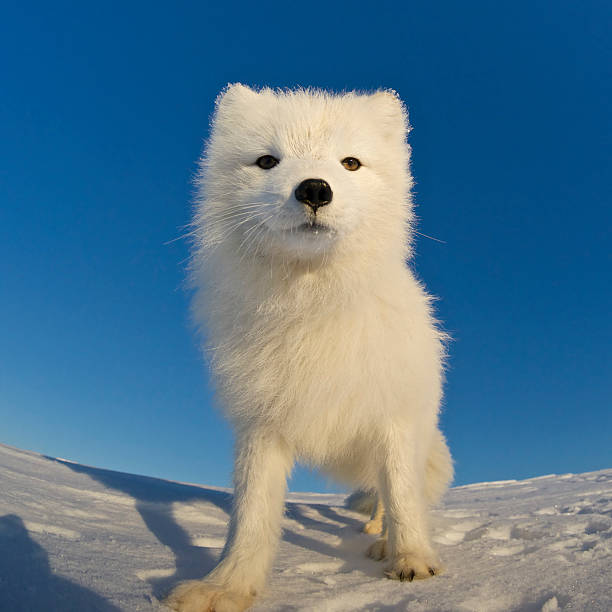arcticfox: (224, 105, 385, 292)
